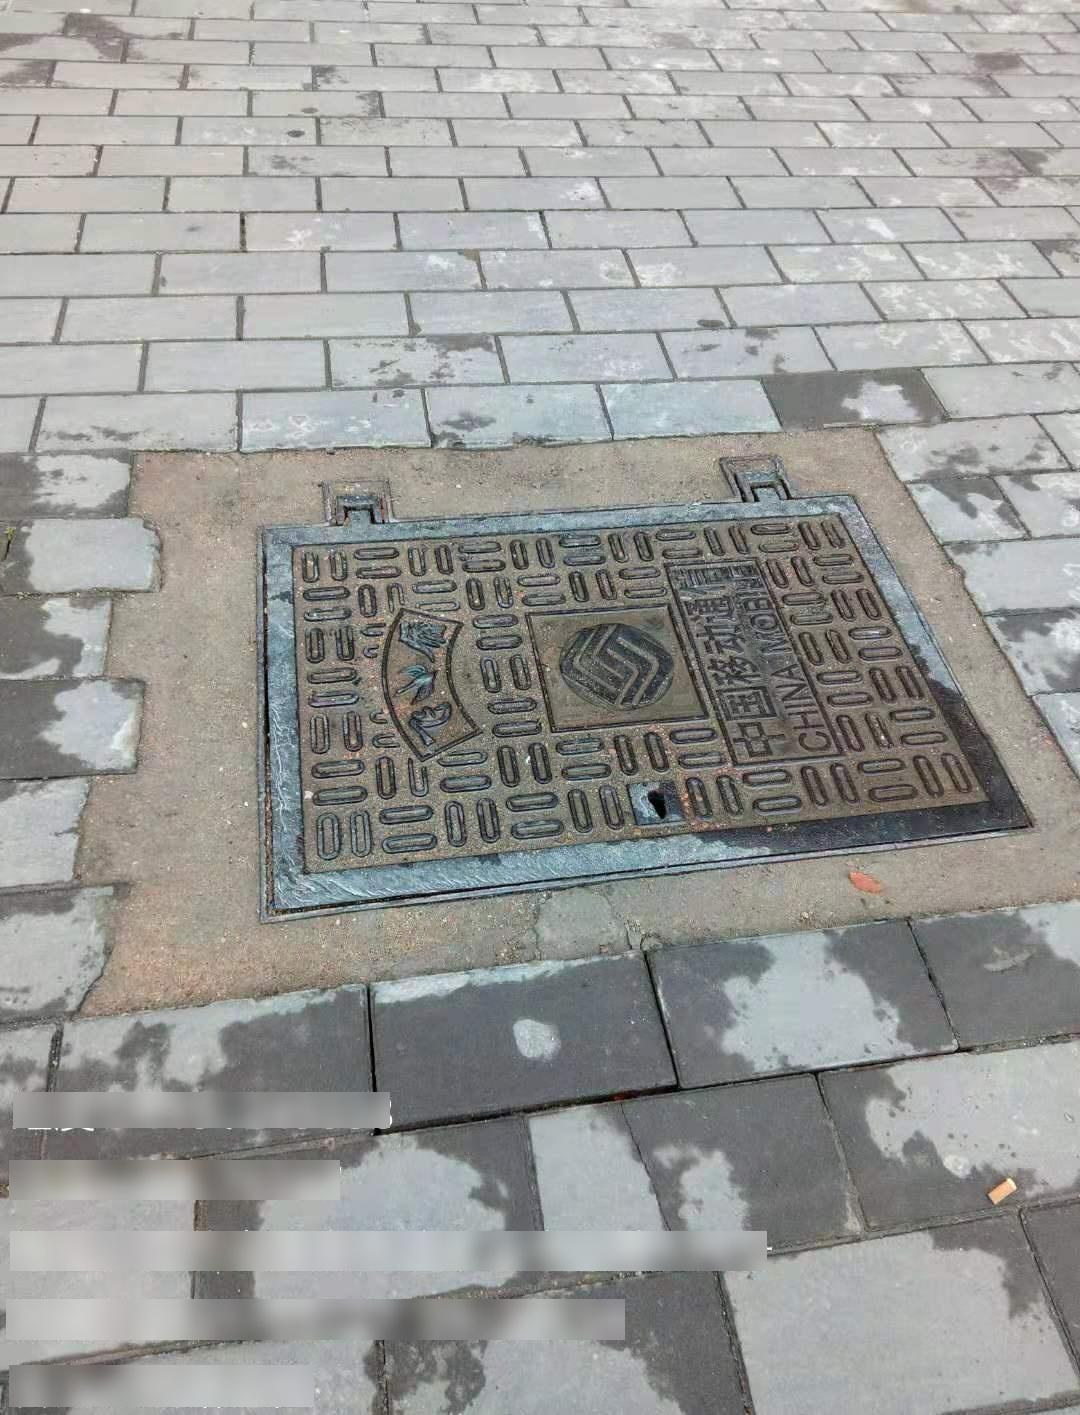wellcover: (234, 475, 1043, 893)
